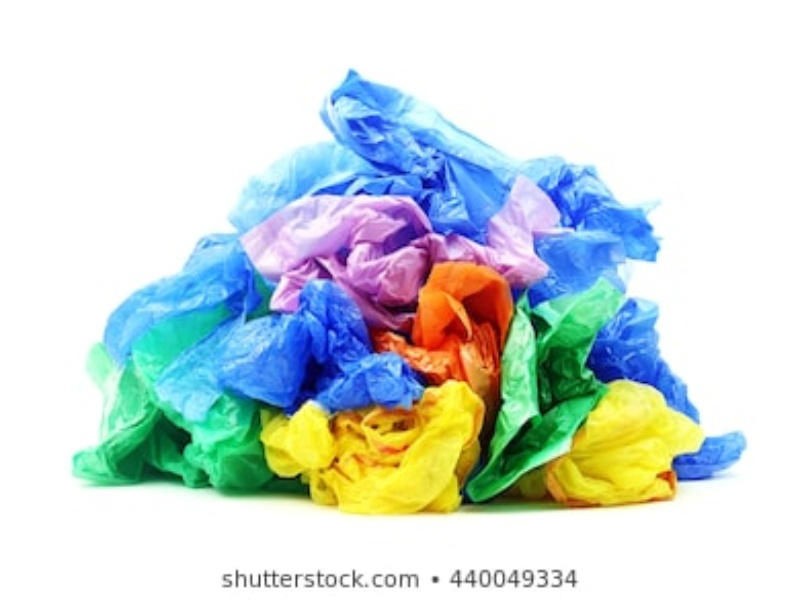plastic-bag: (315, 60, 533, 198), (185, 291, 444, 407), (587, 300, 753, 477), (483, 279, 615, 494), (260, 405, 495, 514), (239, 190, 467, 294), (543, 379, 725, 501), (83, 229, 256, 341)
